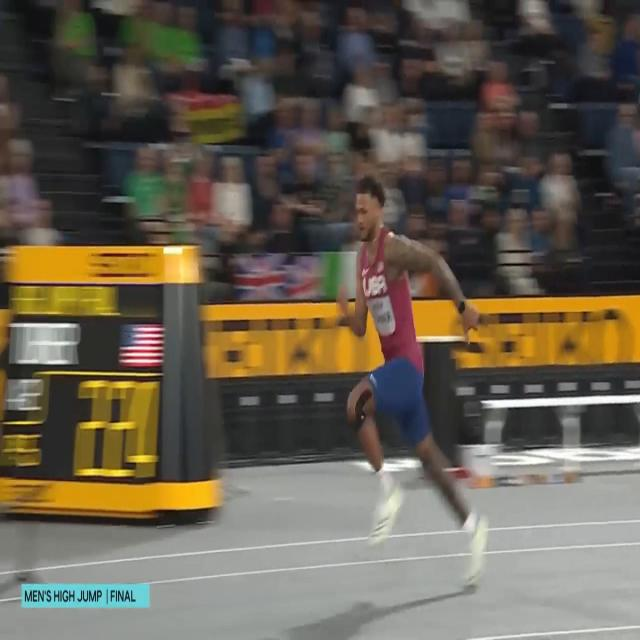run: (337, 170, 490, 590)
